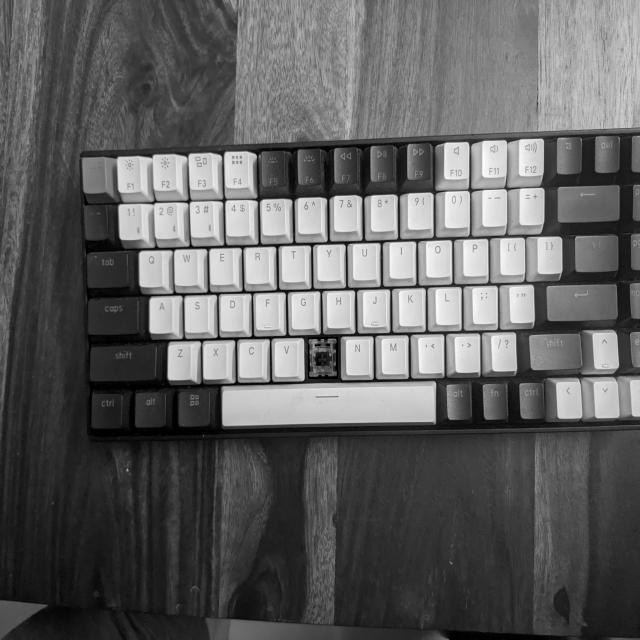C: (308, 337, 338, 379)
